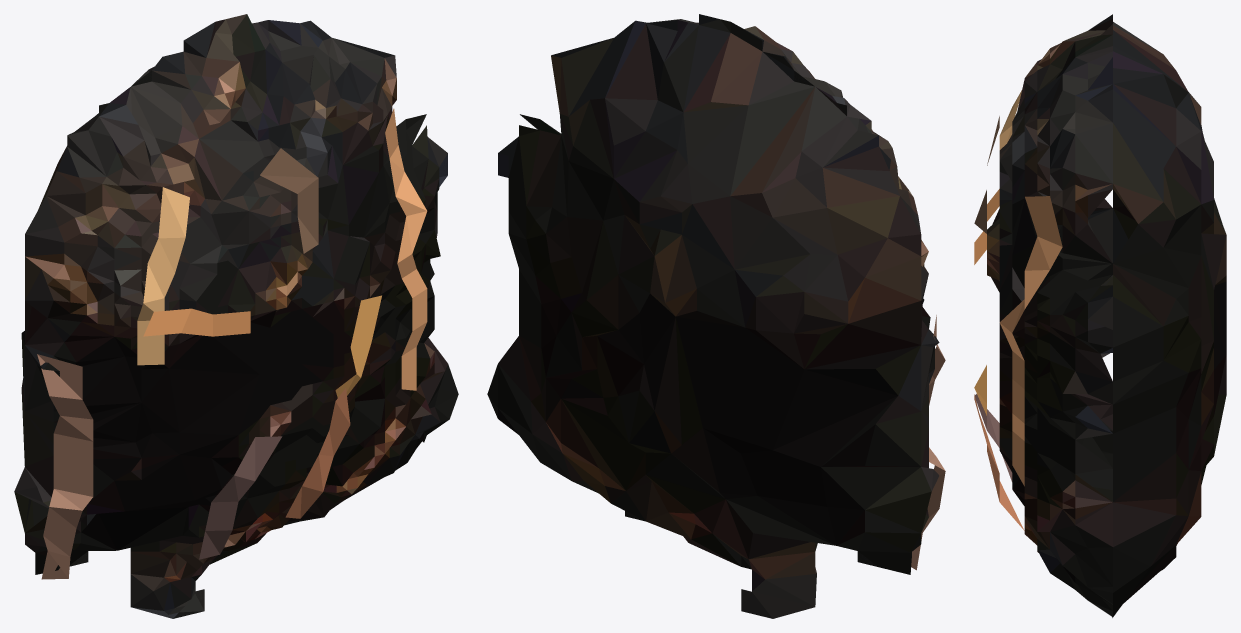
The model's file is B06_1_magma_helm.obj.
The picture shows the model from 3 angles, left to right: view 1: azimuth 30°, elevation 25°; view 2: azimuth 150°, elevation 25°; view 3: azimuth 270°, elevation 25°; orthographic projection. The views are drawn at different scales.
Visible parts, largest first — view 1: B06_1_magma_helm; view 2: B06_1_magma_helm; view 3: B06_1_magma_helm.
Part boxes in pixels (bbox=[...]): B06_1_magma_helm: bbox=[14, 14, 458, 618]; B06_1_magma_helm: bbox=[487, 14, 945, 618]; B06_1_magma_helm: bbox=[974, 14, 1226, 617].
Size of the model in its own units: 42 by 53 by 20.
